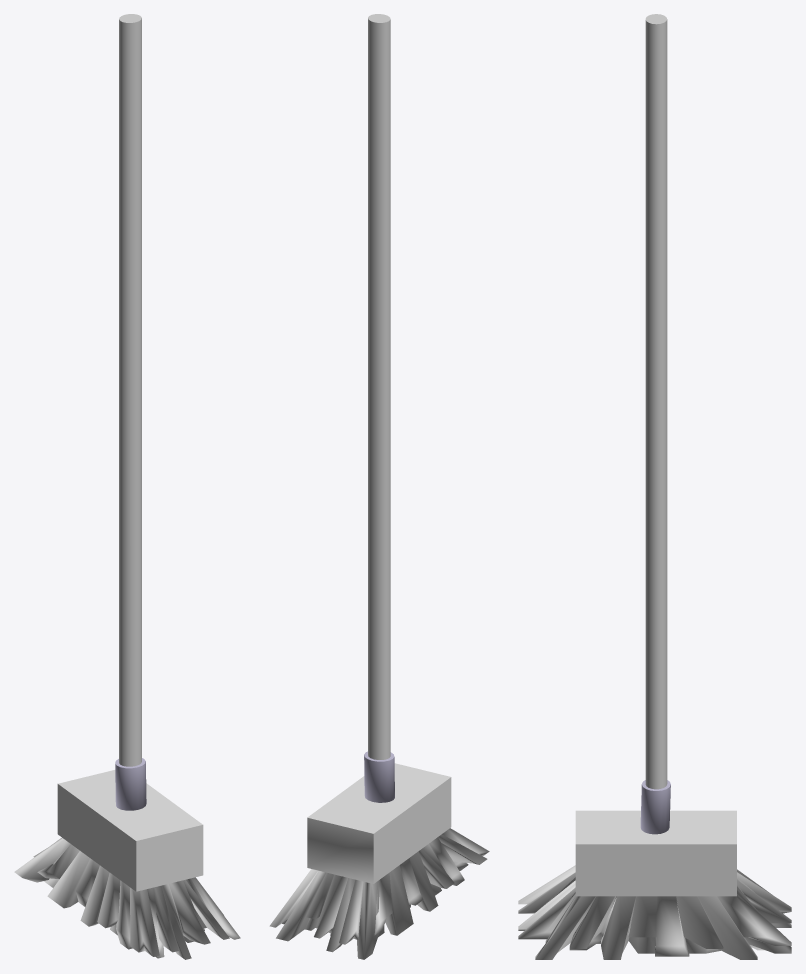
The model's file is Broom.fbx.
The picture shows the model from 3 angles, left to right: view 1: azimuth 30°, elevation 25°; view 2: azimuth 150°, elevation 25°; view 3: azimuth 270°, elevation 25°; orthographic projection. The views are drawn at different scales.
Visible parts, largest first — view 1: Broom; view 2: Broom; view 3: Broom.
Boxes of the visible parts, x1,y1,x2,y2 form: Broom: [14, 14, 240, 959]; Broom: [269, 14, 489, 959]; Broom: [518, 14, 791, 959].
Size of the model in its own units: 29.35 by 244 by 66.14.
